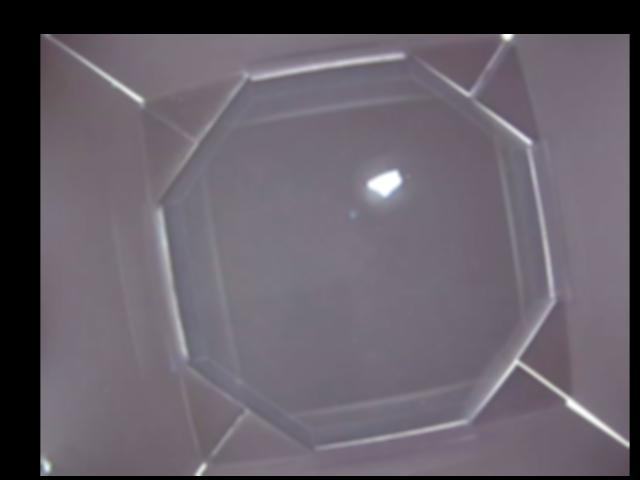China: (368, 169, 402, 198)
